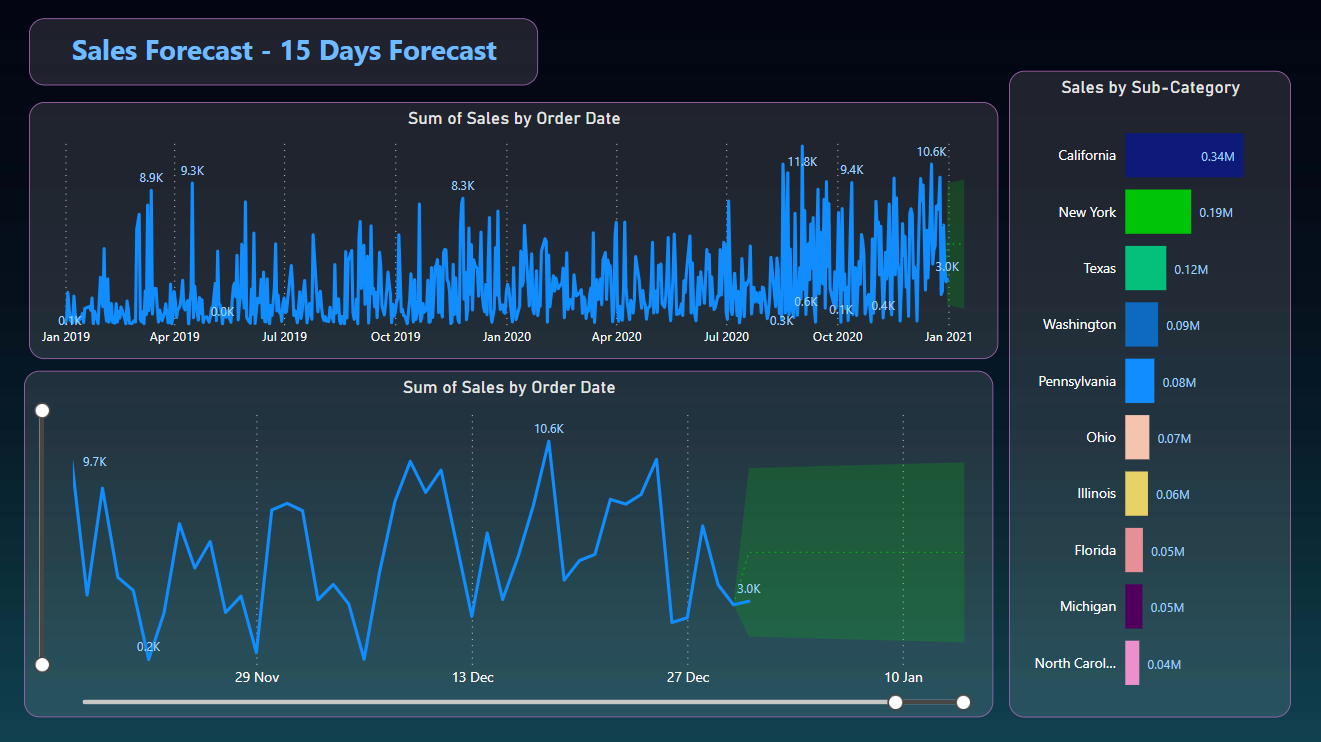

This screenshot's page, from the dashboard's own definition file:
{"tool":"powerbi","page":{"name":"Page 2","canvas":[1280,720],"ordinal":1},"visuals":[{"type":"lineChart","fields":{"Y":["Sum(SuperStore_Sales_Dataset.Sales)"],"Category":["SuperStore_Sales_Dataset.Order Date"]},"box":[28.8,101.5,935.1,248.2],"z":0},{"type":"lineChart","fields":{"Y":["Sum(SuperStore_Sales_Dataset.Sales)"],"Category":["SuperStore_Sales_Dataset.Order Date"]},"box":[24.7,360.6,935.1,334.5],"z":1000},{"type":"clusteredBarChart","title":"Sales by Sub-Category","fields":{"Category":["SuperStore_Sales_Dataset.State"],"Y":["Sum(SuperStore_Sales_Dataset.Sales)"]},"box":[974.9,70.9,271.9,624],"z":2000},{"type":"textbox","box":[28.9,20.4,490.9,64.5],"z":3000}]}

Visuals, with their boxes in screenshot pixels (x1, y1, x2, y2), scaled from the page's 1280x720 canvas onto the 1321x742 screenshot:
lineChart - Sum(SuperStore_Sales_Dataset.Sales) x SuperStore_Sales_Dataset.Order Date: region(30, 105, 995, 360)
lineChart - Sum(SuperStore_Sales_Dataset.Sales) x SuperStore_Sales_Dataset.Order Date: region(25, 372, 991, 716)
"Sales by Sub-Category" clusteredBarChart: region(1006, 73, 1287, 716)
textbox: region(30, 21, 536, 87)
